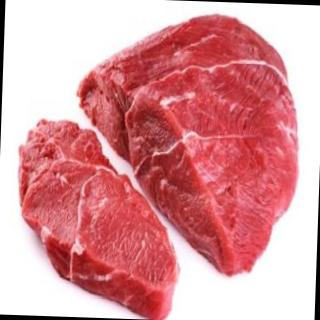Daging Sapi: (72, 9, 304, 282), (14, 119, 182, 320)
